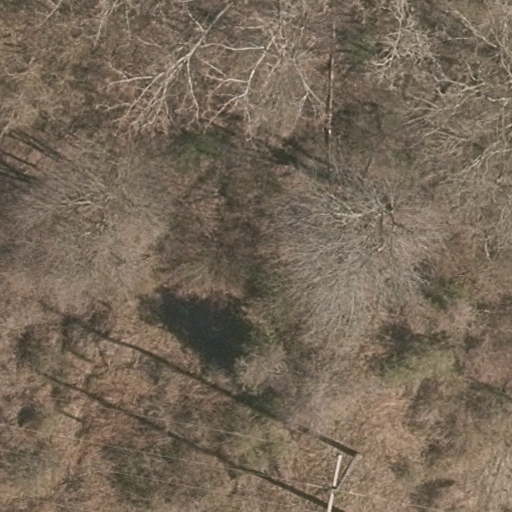DT: (311, 437, 365, 512)
